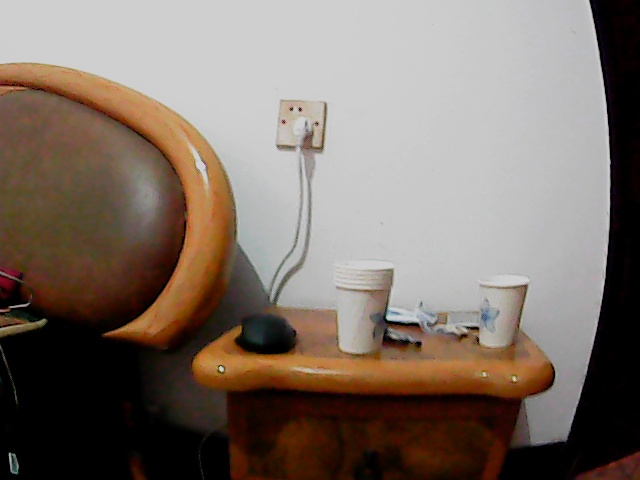cup: (329, 261, 393, 356)
mouse: (235, 310, 297, 356)
